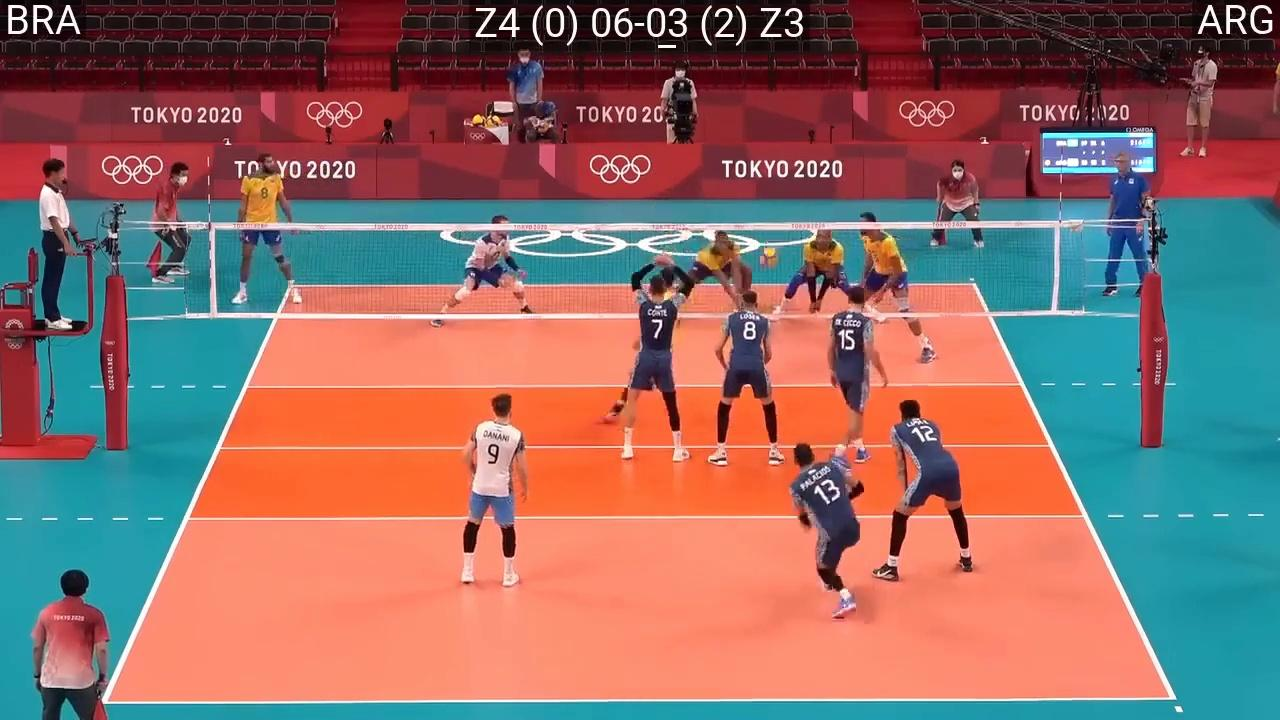ball: (758, 246, 780, 269)
